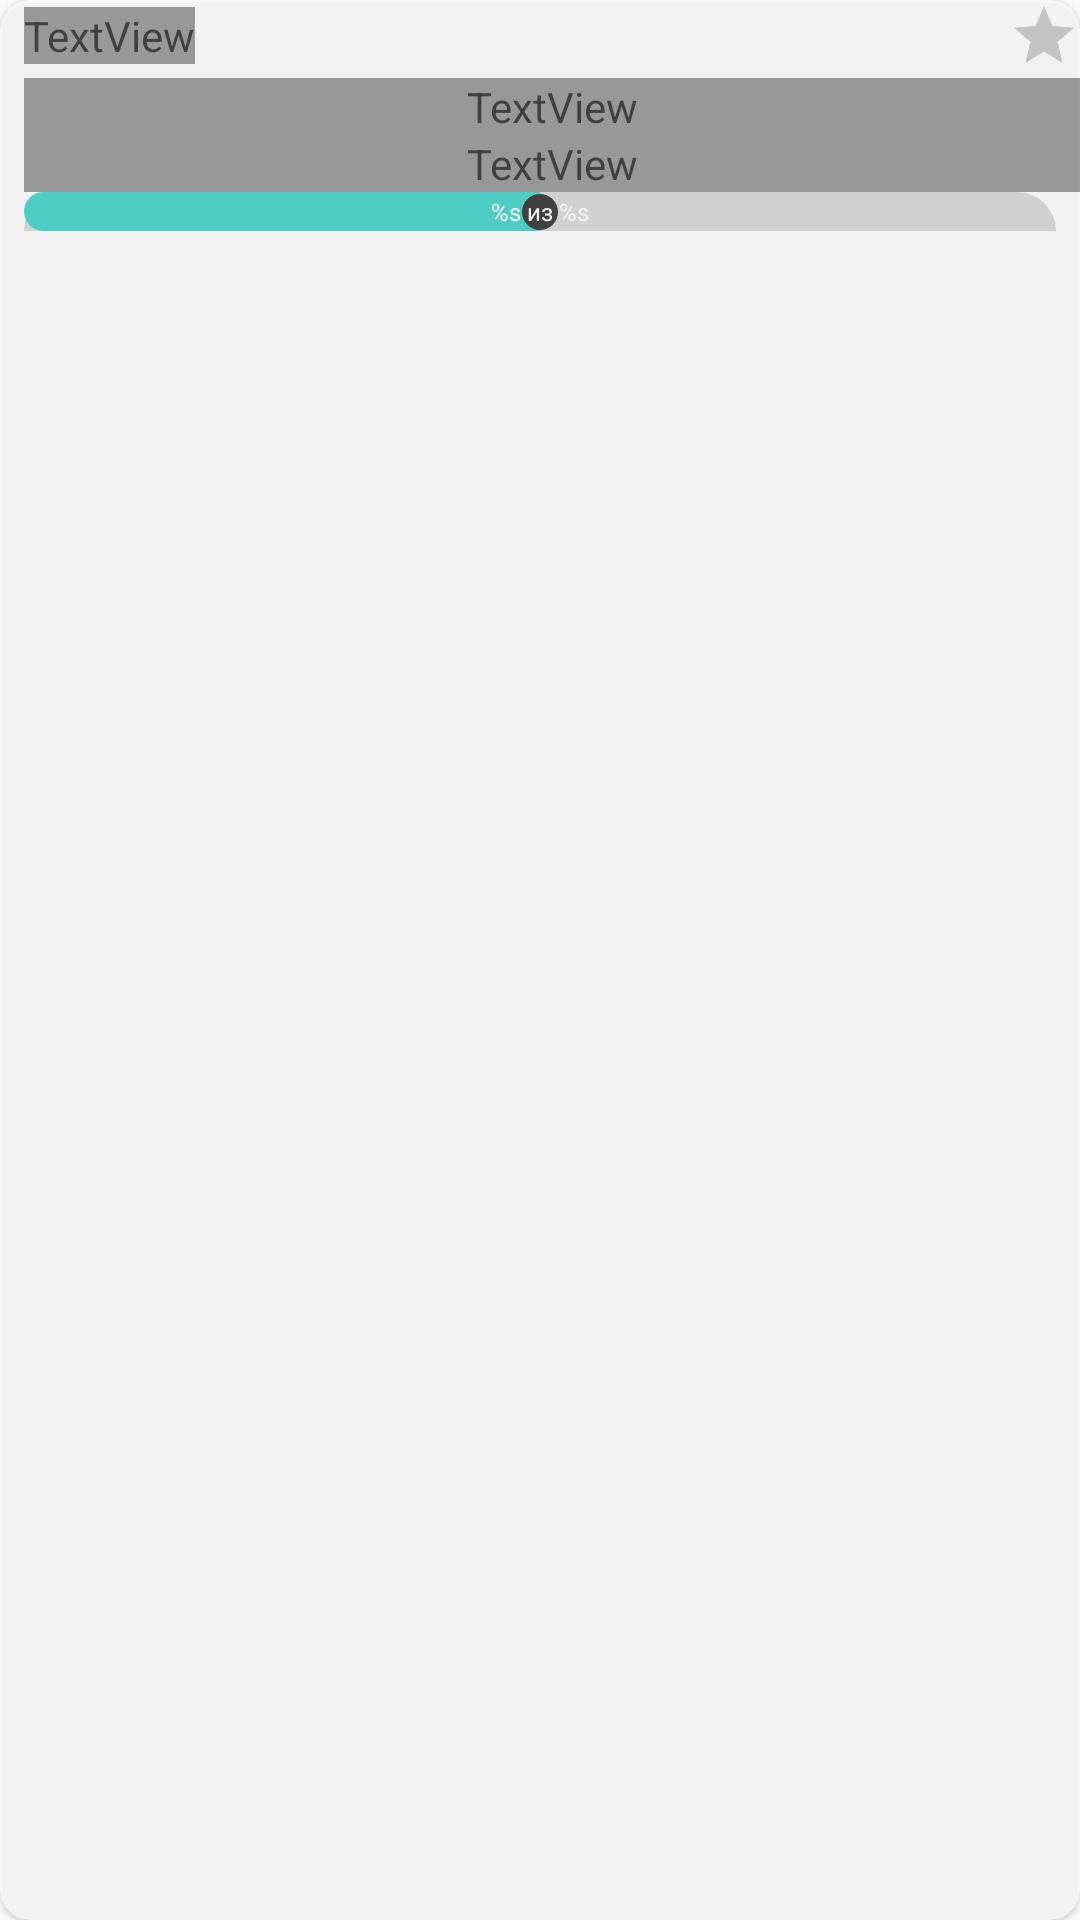

Screen size 1080×1920. Icon name, then its center in pixels as (x,y):
star: (1044,34)
